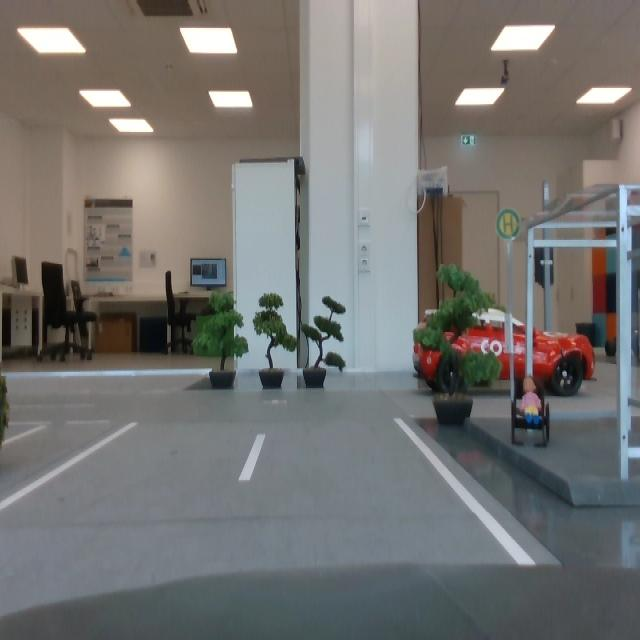car: (412, 306, 596, 397)
person: (519, 376, 544, 422)
potted plant: (413, 264, 502, 426), (192, 290, 249, 389), (253, 292, 297, 389), (301, 296, 347, 388)
traffic light: (534, 247, 555, 289)
